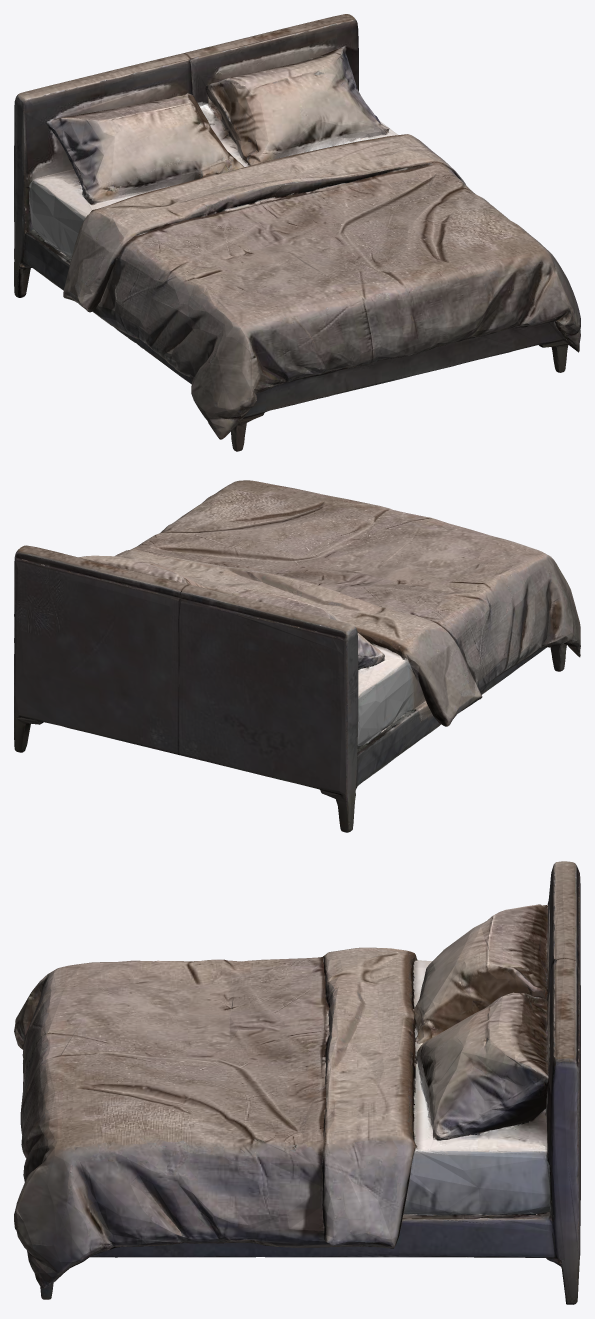
The model's file is bed.glb.
3 views of the same model, one above another, from view 1: azimuth 30°, elevation 25°; view 2: azimuth 150°, elevation 25°; view 3: azimuth 270°, elevation 25° (orthographic). The views are drawn at different scales.
Parts seen in each view (by area): view 1: world; view 2: world; view 3: world.
Boxes of the visible parts, bbox=[...] form: world: bbox=[14, 14, 580, 451]; world: bbox=[14, 480, 580, 832]; world: bbox=[14, 861, 580, 1304].
Size of the model in its own units: 1.99 by 0.962 by 1.99.
Materials: 1 (1 with a texture image).
